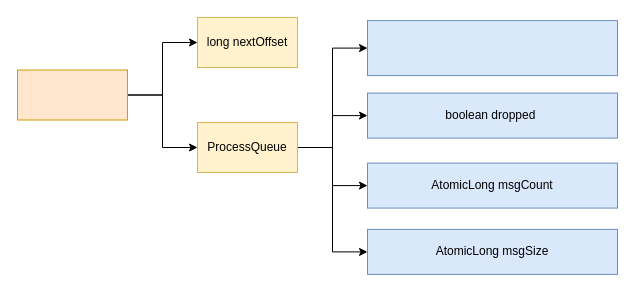
The diagram is 635 pixels wide and 292 high, and some of its shapes have lost their labels. Here are the shapes that lost their labels. From the top down, the centre of each, then its label:
the point at 492,48: TreeMap<Long, MessageExt> msgTreeMap key为消息的offset value为消息实体
the point at 72,94: PullRequest
